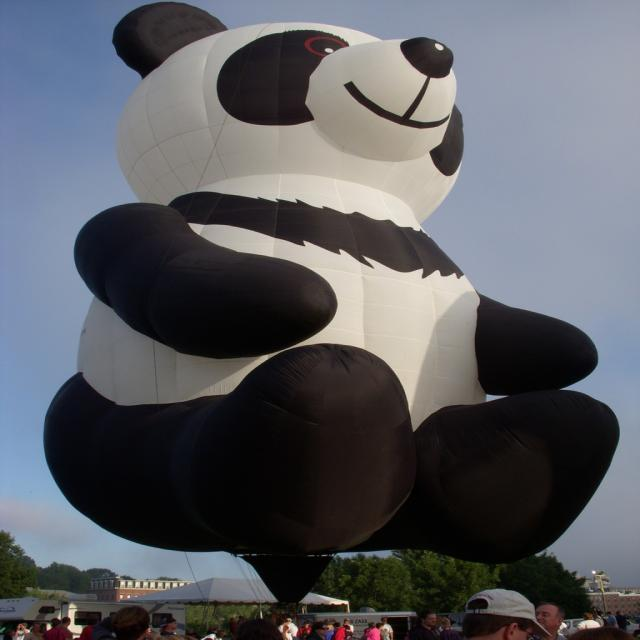panda: (46, 1, 628, 559)
